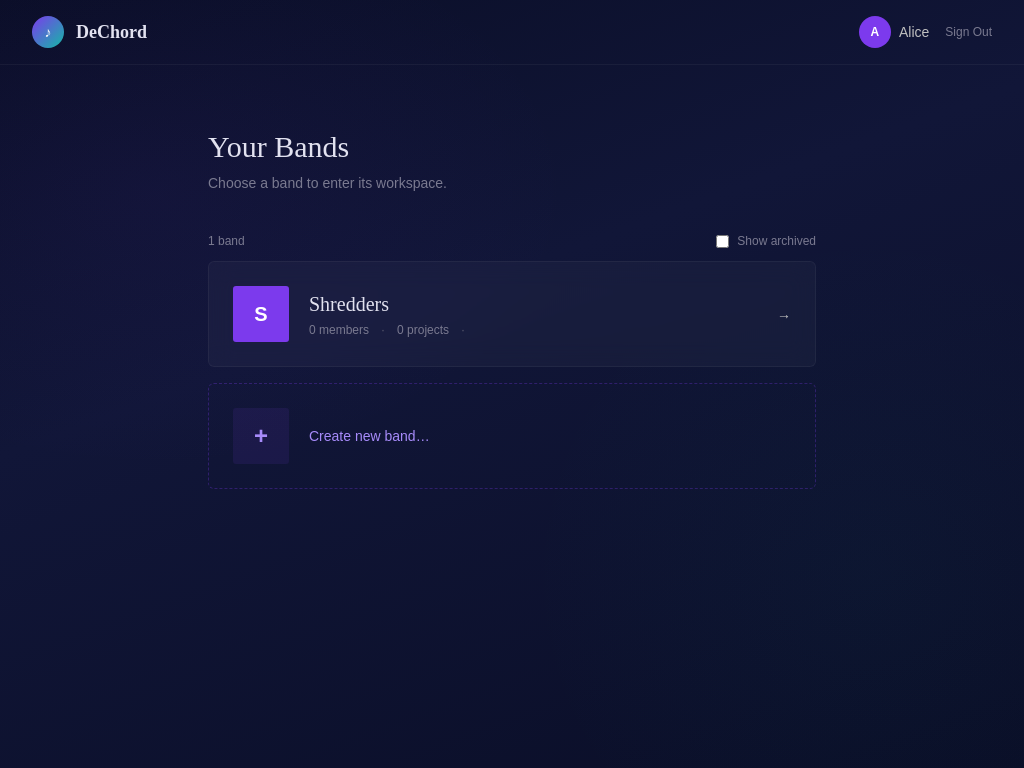
BandSelectPage — additional band creation › Cancel hides the form and restores the ghost card
Step 1. Click the text "Create new band…" → (369, 436), box [309, 426, 430, 446]
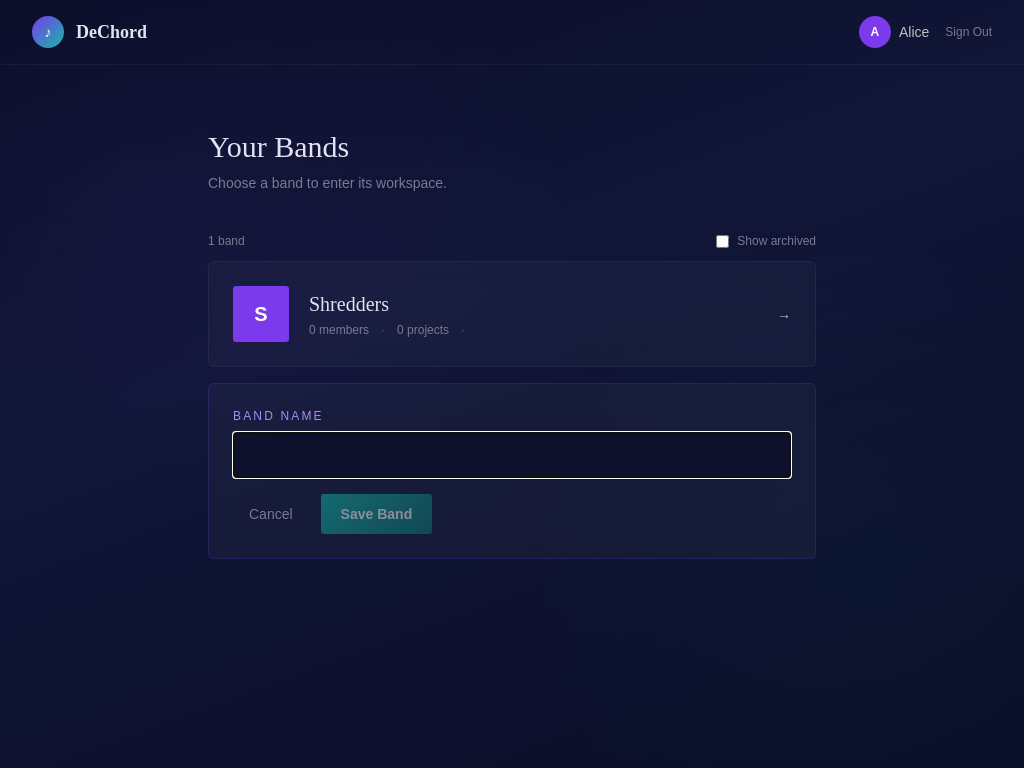
Step 2. Click the button "Cancel" → (271, 514), box [233, 494, 309, 534]
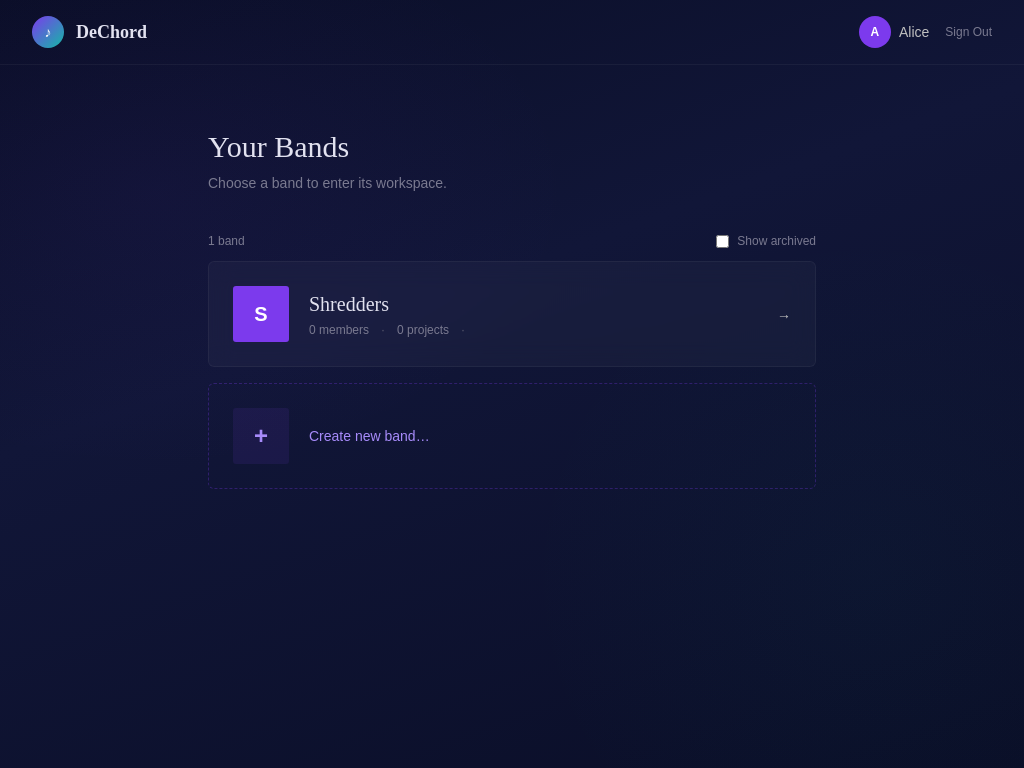
Now the label labelled "Band Name" is gone
Now the text "Create new band…" is shown, box [309, 426, 430, 446]
